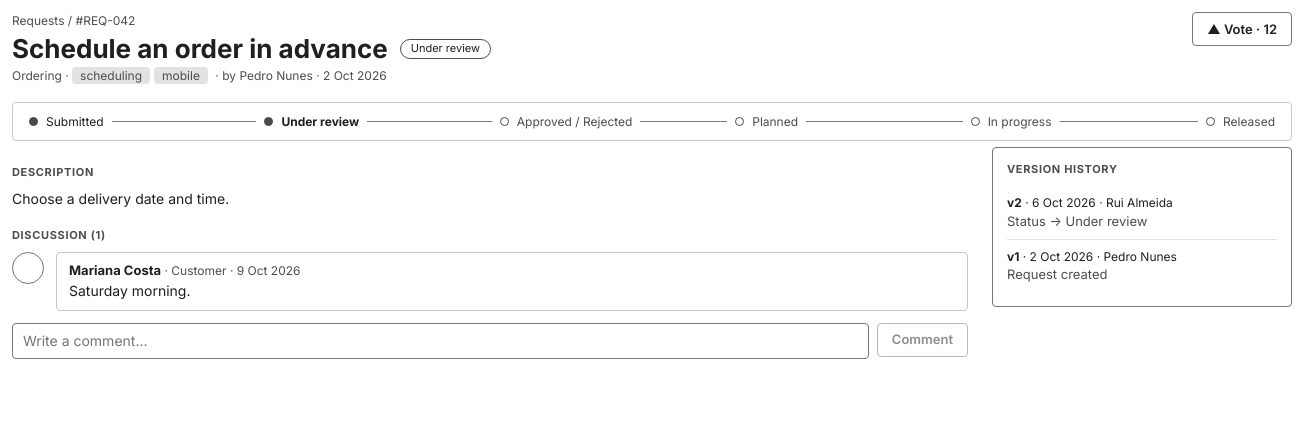
Test: Request detail › posts a comment
Type "Card is fine." into the field labelled "Write a comment".
click(440, 341); type("Card is fine.")  # box [12, 323, 869, 359]
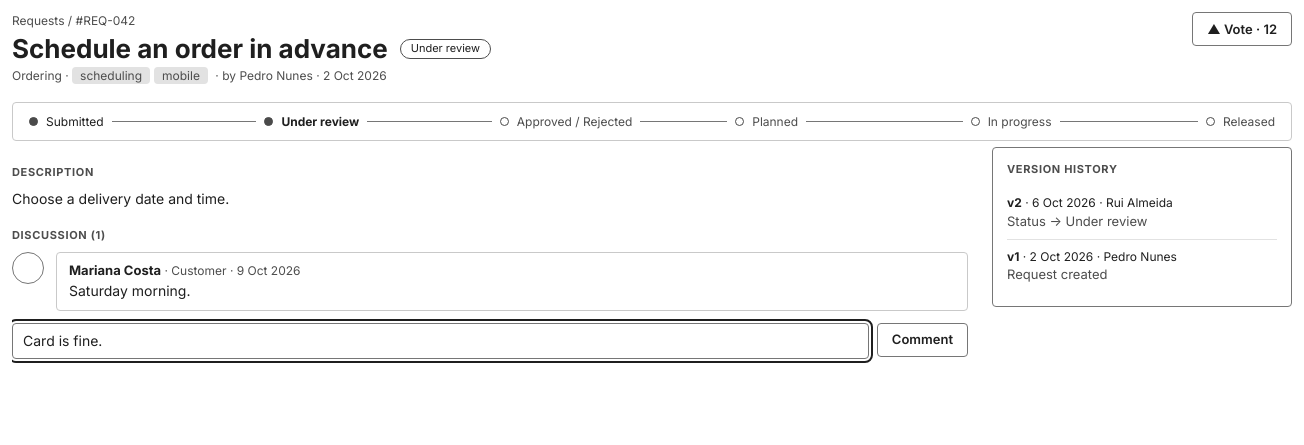
Click the button "Comment".
click(922, 340)  # box [877, 323, 968, 357]
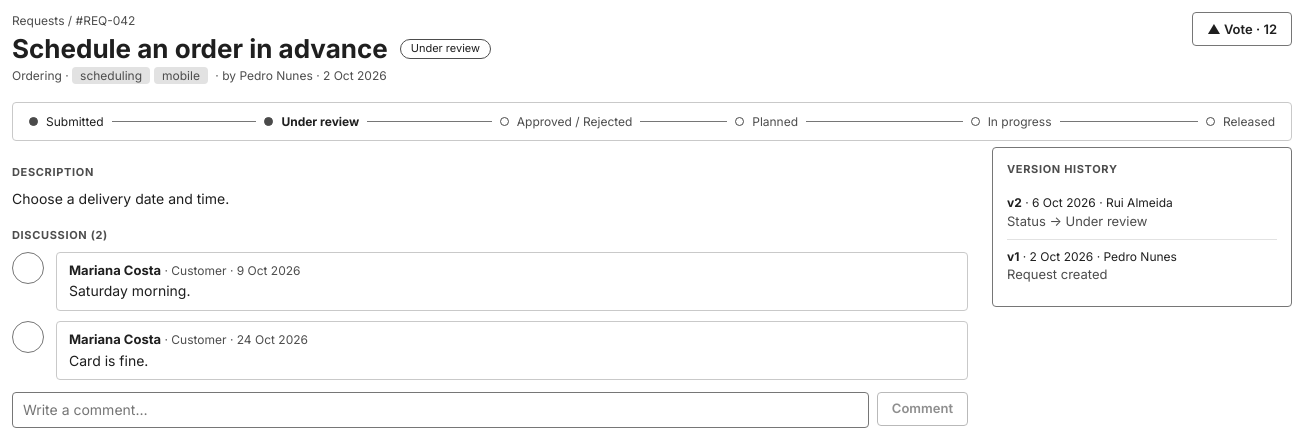
Expected: the text "Card is fine." is shown, [69, 352, 148, 368]
Expected: the heading "Discussion (2)" is shown, [12, 228, 108, 242]
